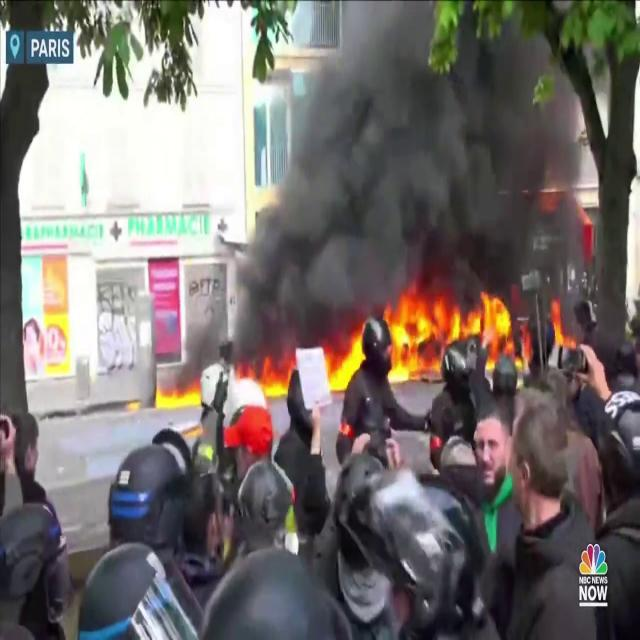Fire: (384, 282, 520, 378), (322, 322, 366, 393), (234, 352, 294, 404), (153, 376, 203, 410)
Smoke: (220, 2, 602, 330)
